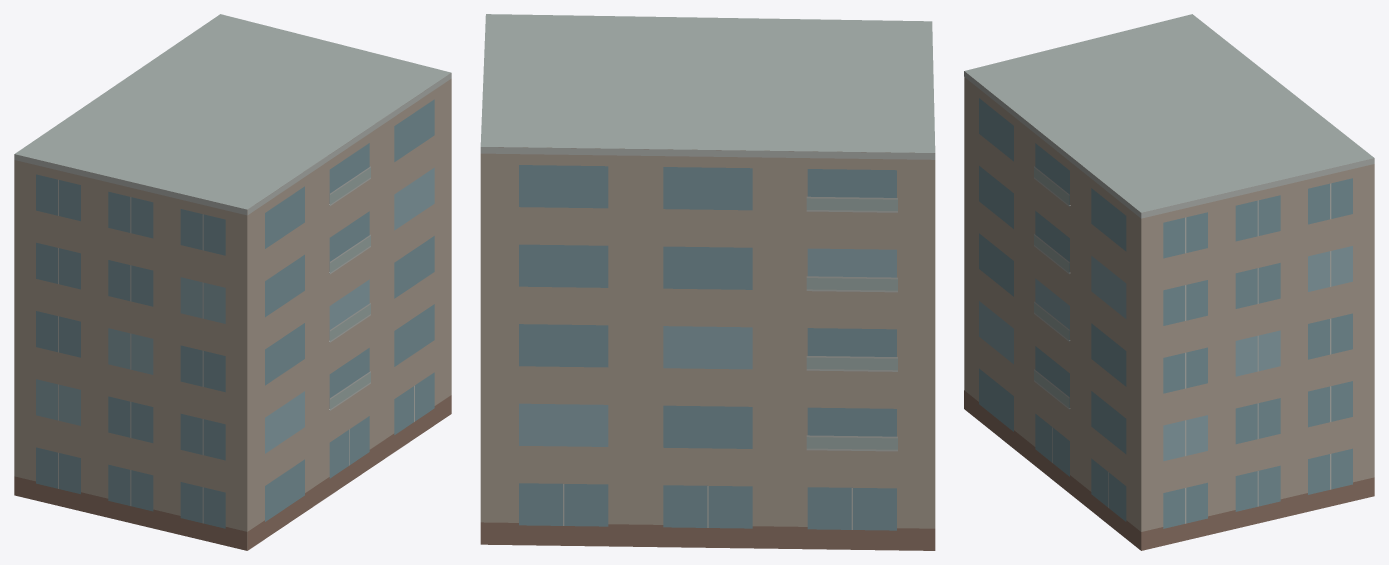
The model's file is survey-upis-32738539.glb.
3 renders of one model, left to right at view 1: azimuth 30°, elevation 25°; view 2: azimuth 150°, elevation 25°; view 3: azimuth 270°, elevation 25°, orthographic. The views are drawn at different scales.
Parts seen in each view (by area): view 1: survey-upis-32738539.tmp; view 2: survey-upis-32738539.tmp; view 3: survey-upis-32738539.tmp.
Part boxes in pixels (<box>): survey-upis-32738539.tmp: <box>14,14,451,550</box>; survey-upis-32738539.tmp: <box>480,14,935,550</box>; survey-upis-32738539.tmp: <box>964,14,1374,550</box>.
Size of the model in its own units: 17.99 by 14.25 by 15.69.
